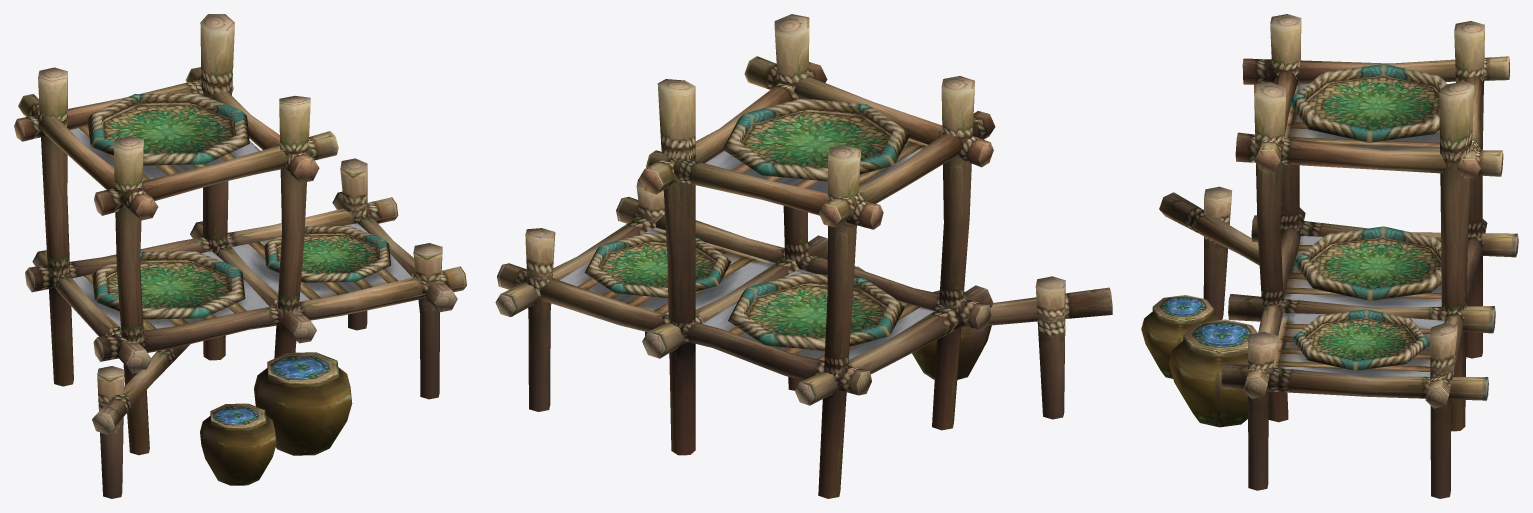
Rendered from Anmaodao_wujian.FBX.
3 renders of one model, left to right at view 1: azimuth 30°, elevation 25°; view 2: azimuth 150°, elevation 25°; view 3: azimuth 270°, elevation 25°, orthographic. The views are drawn at different scales.
Parts seen in each view (by area): view 1: Anmaodao_wujian; view 2: Anmaodao_wujian; view 3: Anmaodao_wujian.
Part boxes in pixels (bbox=[...]): Anmaodao_wujian: bbox=[14, 14, 466, 498]; Anmaodao_wujian: bbox=[495, 14, 1112, 498]; Anmaodao_wujian: bbox=[1141, 14, 1518, 498].
Size of the model in its own units: 125 by 93.21 by 93.61.
